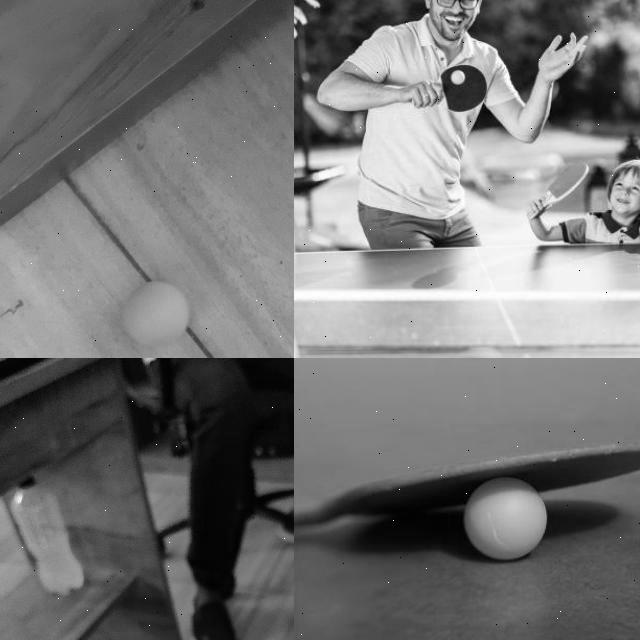ping-pong-ball: (462, 478, 546, 560), (123, 281, 187, 349), (450, 70, 464, 84)
